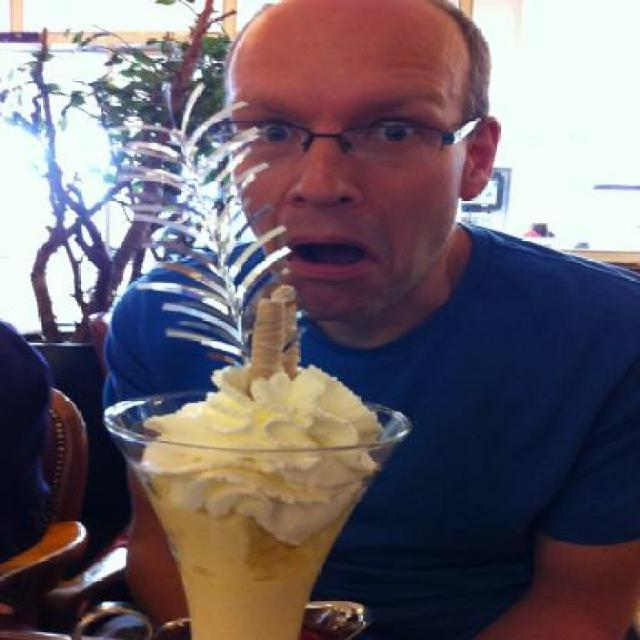Ice cream: (114, 332, 398, 600)
